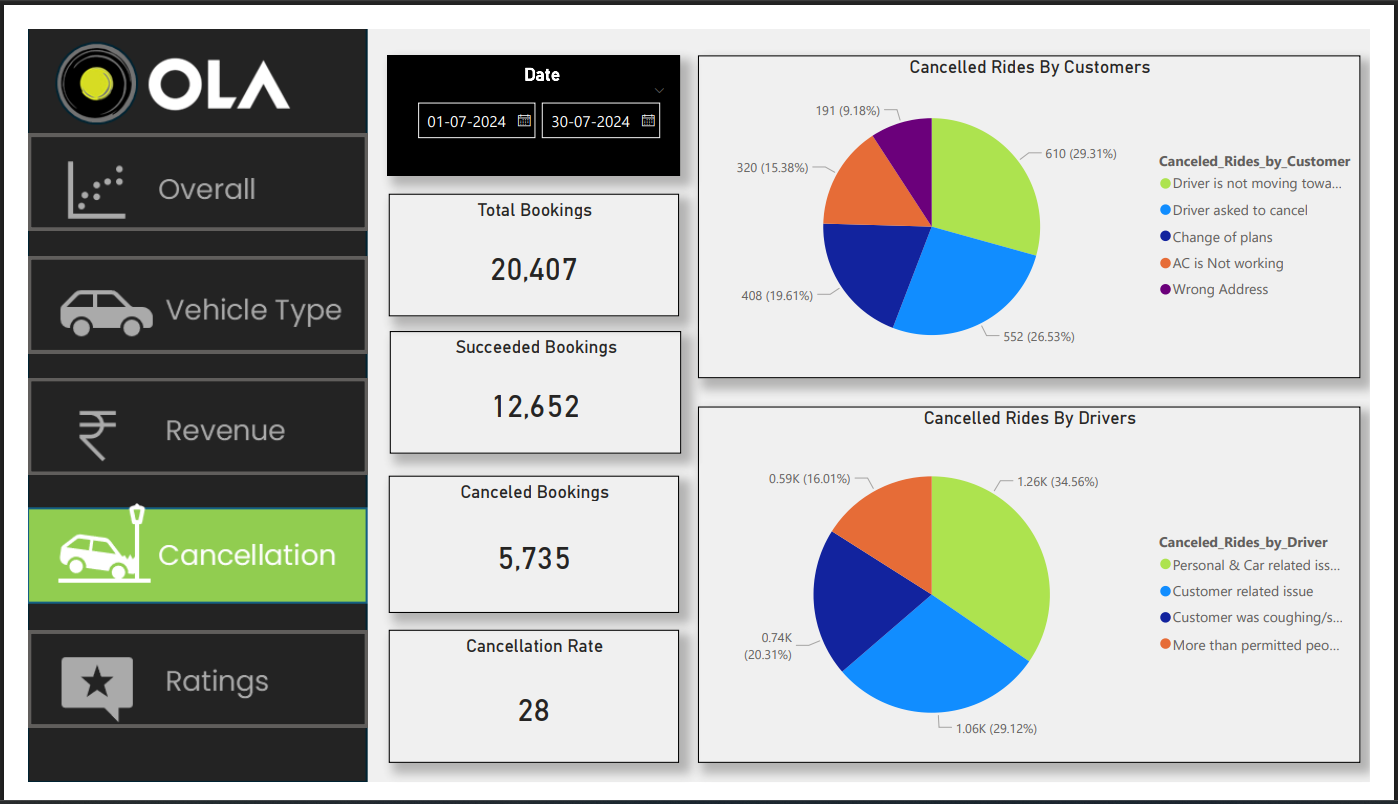

This screenshot's page, from the dashboard's own definition file:
{"tool":"powerbi","page":{"name":"Cancellation","canvas":[1280,720],"ordinal":3},"visuals":[{"type":"actionButton","box":[0,100.2,323.8,91.9],"z":0},{"type":"actionButton","box":[0,216.8,323.8,91.9],"z":1000},{"type":"actionButton","box":[0,333.4,323.8,91.9],"z":2000},{"type":"actionButton","box":[0,573.6,323.8,91.9],"z":3000},{"type":"pieChart","title":"Cancelled Rides By Customers","fields":{"Category":["July.Canceled_Rides_by_Customer"],"Y":["CountNonNull(July.Canceled_Rides_by_Customer)"]},"box":[639.5,24.7,631.2,308.7],"z":4000},{"type":"pieChart","title":"Cancelled Rides By Drivers","fields":{"Category":["July.Canceled_Rides_by_Driver"],"Y":["CountNonNull(July.Canceled_Rides_by_Driver)"]},"box":[639.5,359.5,631.2,340.3],"z":5000},{"type":"slicer","title":"Date","fields":{"Values":["July.Date"]},"box":[343.1,24.7,278.6,115.3],"z":6000},{"type":"card","title":"Total Bookings","fields":{"Values":["Count(July.Booking_ID)"]},"box":[343.5,156.8,278,116.9],"z":7000},{"type":"card","title":"Succeeded Bookings","fields":{"Values":["Count(July.Booking_ID)"]},"box":[344.9,287.9,278,116.9],"z":8000},{"type":"card","title":"Canceled Bookings","fields":{"Values":["Count(July.Booking_ID)"]},"box":[343.5,426.2,278,131.1],"z":9000},{"type":"card","title":"Cancellation Rate","fields":{"Values":["July.CanceledPercentage"]},"box":[343.5,573,278,126.9],"z":10000}]}

Visuals, with their boxes in screenshot pixels (x1, y1, x2, y2), scaled from the page's 1280x720 canvas onto the 1398x804 screenshot:
actionButton: select_region(0, 112, 354, 215)
actionButton: select_region(0, 242, 354, 345)
actionButton: select_region(0, 372, 354, 475)
actionButton: select_region(0, 641, 354, 743)
"Cancelled Rides By Customers" pieChart: select_region(698, 28, 1388, 372)
"Cancelled Rides By Drivers" pieChart: select_region(698, 401, 1388, 781)
"Date" slicer: select_region(375, 28, 679, 156)
"Total Bookings" card: select_region(375, 175, 679, 306)
"Succeeded Bookings" card: select_region(377, 321, 680, 452)
"Canceled Bookings" card: select_region(375, 476, 679, 622)
"Cancellation Rate" card: select_region(375, 640, 679, 782)
